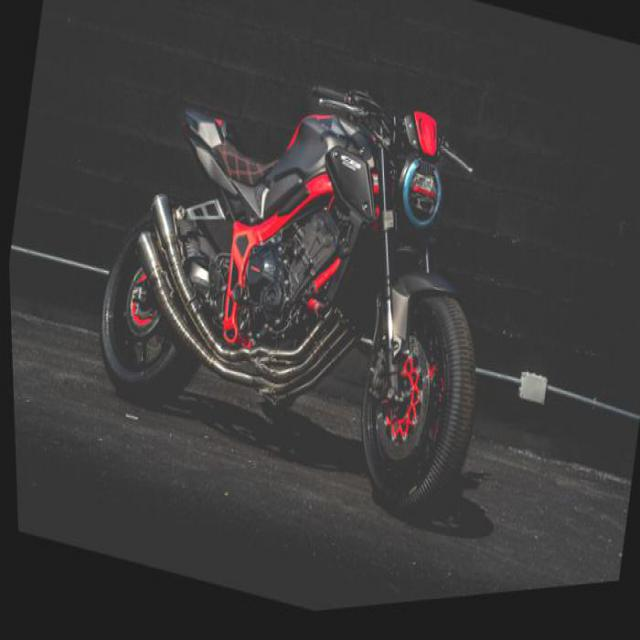CB650R: (70, 0, 524, 569)
